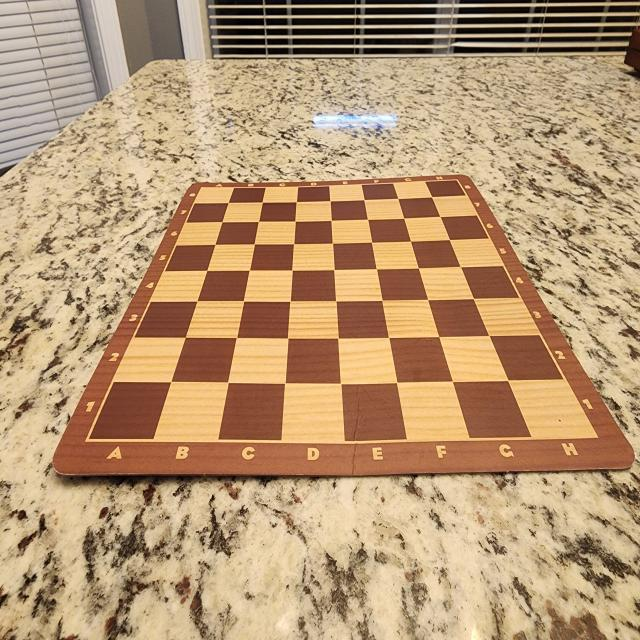Bottom-Left: (88, 382, 170, 441)
Bottom-Right: (510, 380, 597, 438)
Top-Left: (200, 186, 228, 203)
Top-Right: (428, 182, 458, 196)
